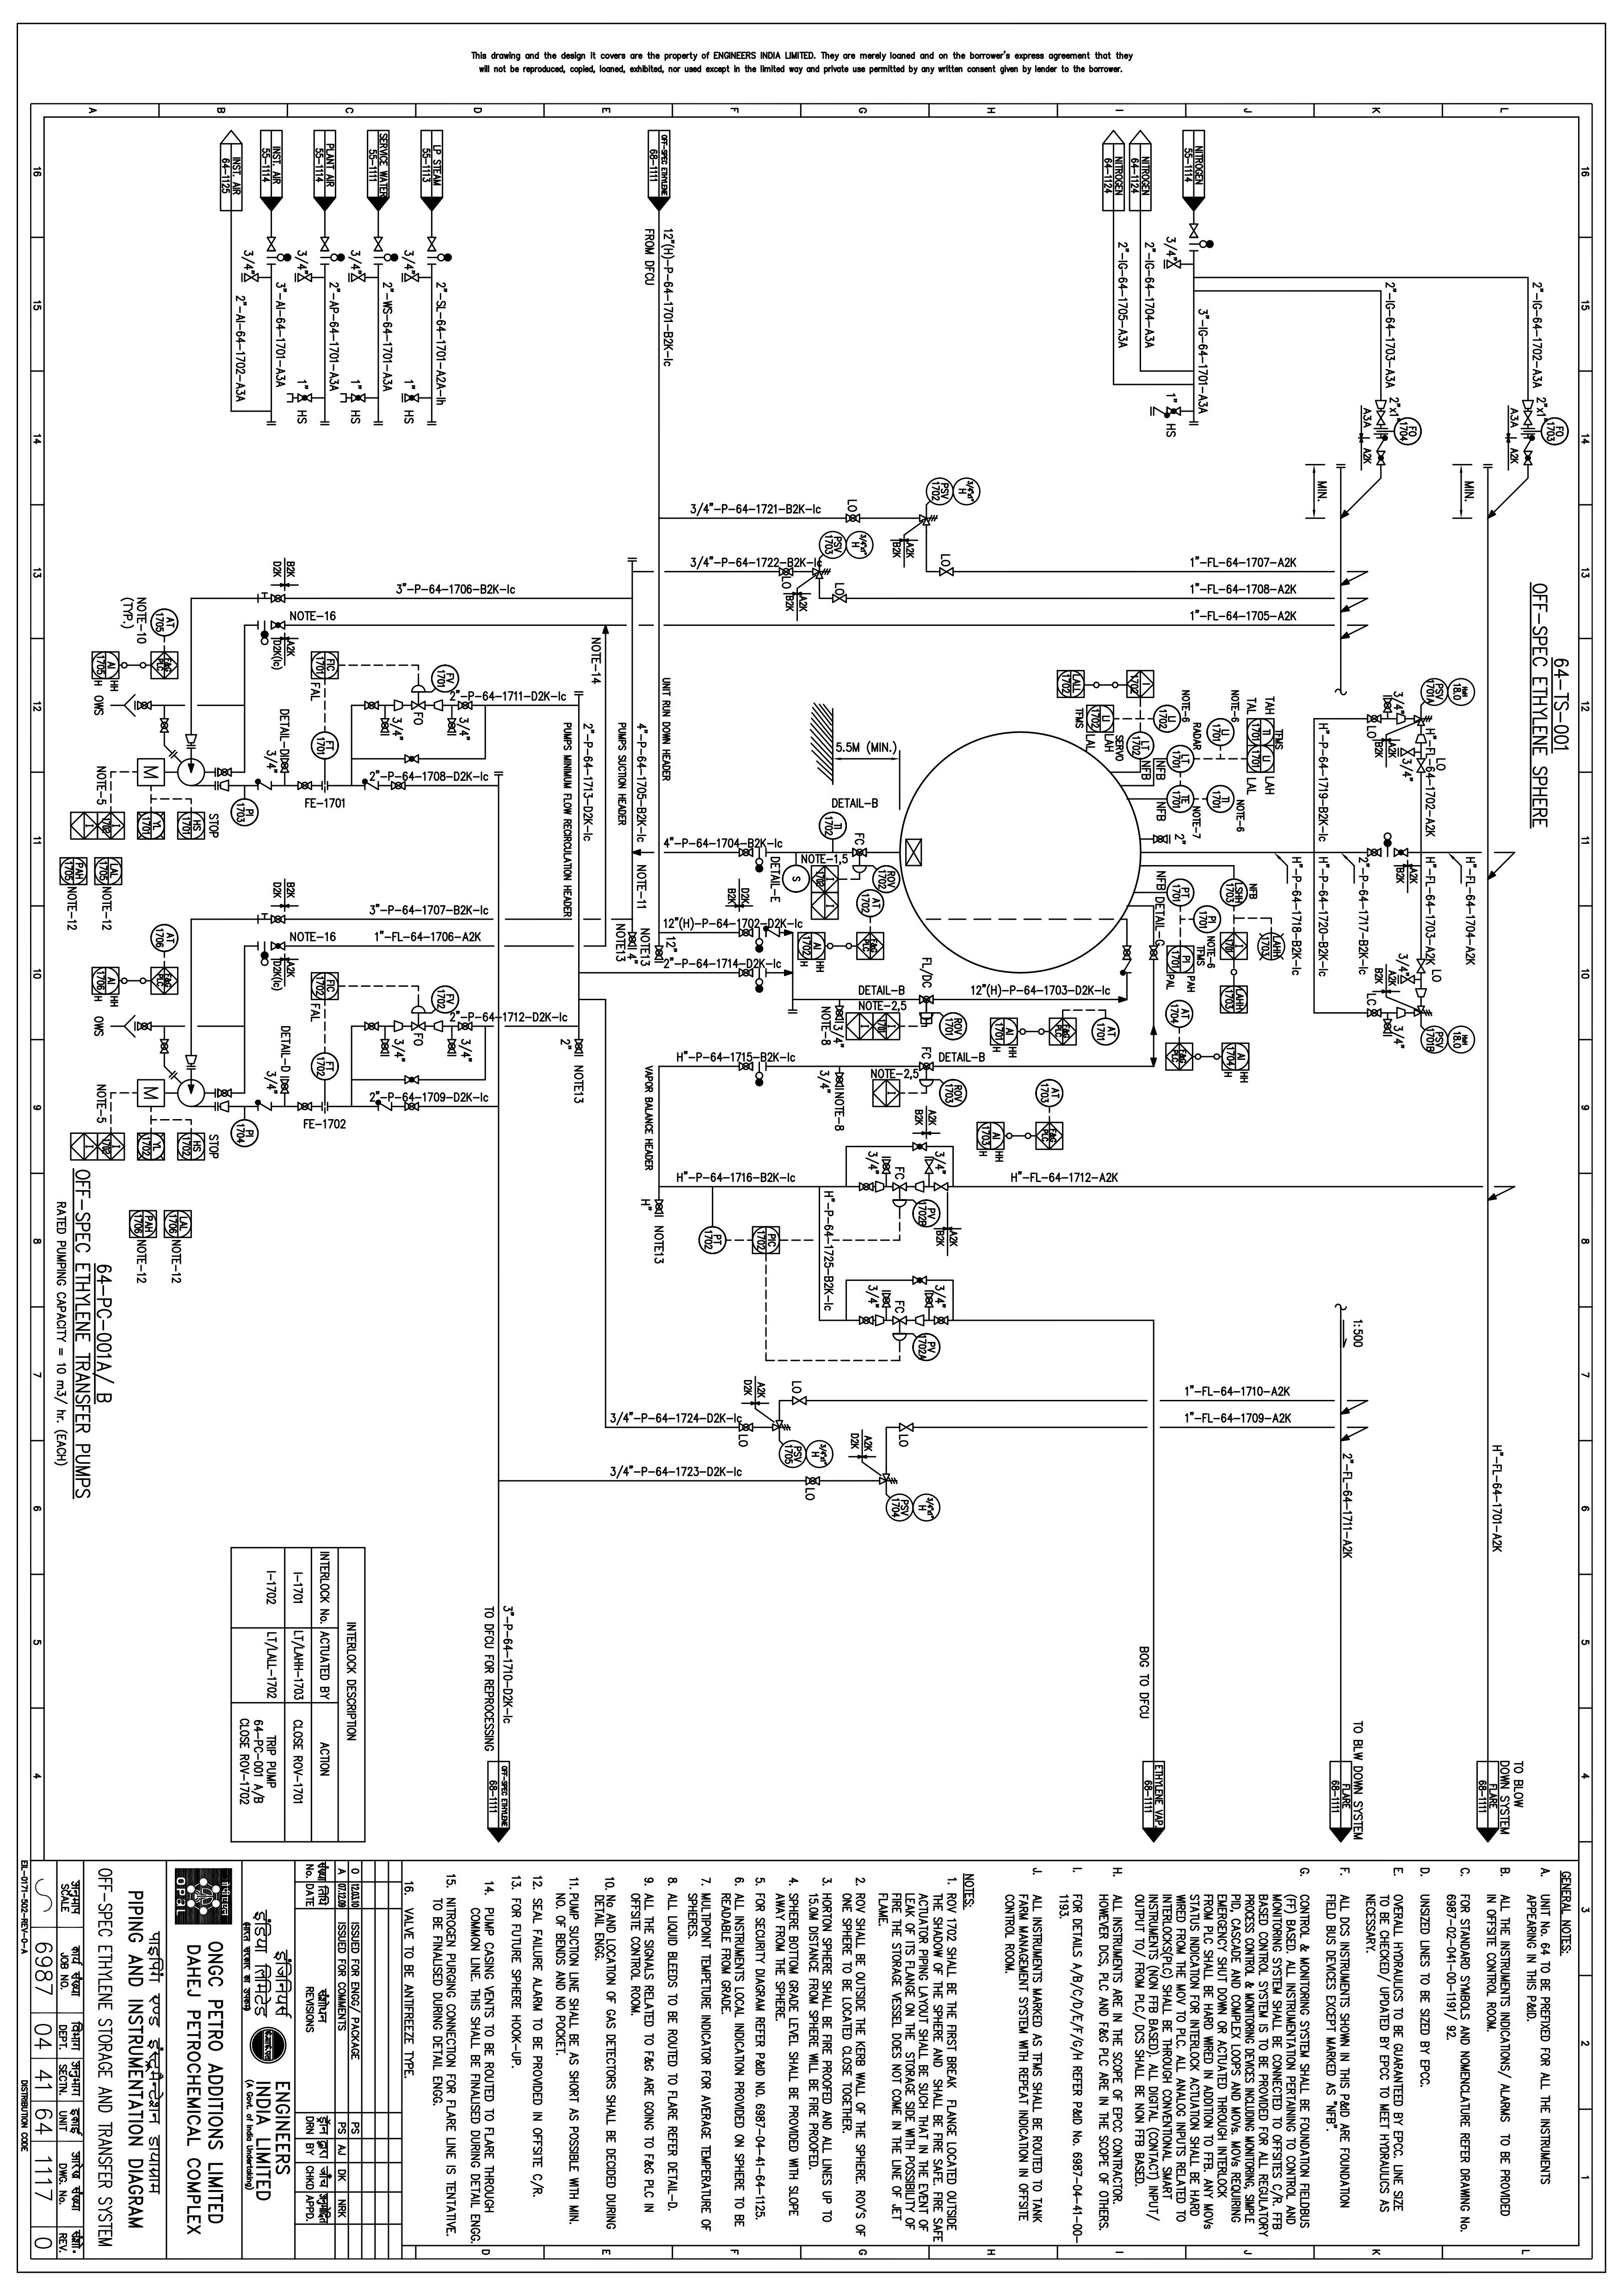ball valve: (1117, 940, 1142, 982), (285, 385, 320, 413), (237, 264, 270, 290), (850, 1173, 887, 1195), (1375, 1014, 1395, 1052), (1375, 1012, 1393, 1052), (260, 223, 281, 256), (852, 1312, 885, 1333), (395, 385, 423, 409), (372, 711, 395, 741), (335, 390, 371, 409), (420, 230, 439, 265), (1145, 402, 1184, 420), (804, 562, 831, 587), (725, 1418, 761, 1435), (866, 1470, 901, 1488), (292, 271, 316, 293), (931, 1312, 956, 1335), (1161, 258, 1196, 274), (155, 1031, 176, 1058), (371, 1096, 397, 1117), (249, 775, 278, 794), (404, 1001, 437, 1017), (369, 228, 386, 258), (343, 271, 372, 288), (209, 1084, 239, 1101), (153, 715, 176, 738), (360, 775, 383, 798), (1412, 708, 1435, 731), (183, 726, 202, 752), (1410, 1001, 1437, 1021), (128, 1019, 160, 1035), (399, 1072, 430, 1087), (915, 513, 943, 531), (179, 1049, 200, 1072), (274, 748, 293, 773), (762, 922, 787, 942), (906, 1270, 931, 1289), (1361, 710, 1388, 727), (885, 1177, 912, 1195), (785, 1393, 811, 1411), (397, 271, 425, 286), (450, 1019, 478, 1035), (799, 1474, 827, 1490), (915, 991, 940, 1008), (1412, 952, 1430, 977), (1186, 214, 1201, 241), (408, 680, 434, 696), (1374, 450, 1389, 476), (848, 863, 868, 884), (1363, 841, 1384, 861), (267, 617, 290, 634), (1372, 413, 1389, 436), (1516, 451, 1539, 469), (290, 778, 318, 792), (1393, 748, 1421, 762), (574, 1033, 588, 1061), (132, 699, 156, 715), (892, 1419, 917, 1435), (386, 1017, 406, 1036), (206, 780, 232, 794), (362, 697, 383, 715), (1379, 690, 1393, 717), (915, 1010, 936, 1028), (887, 1195, 908, 1212), (1365, 1005, 1382, 1026), (399, 754, 429, 766), (769, 567, 799, 580), (1151, 831, 1173, 847), (931, 1179, 954, 1195), (279, 1075, 295, 1098), (362, 1019, 385, 1035), (425, 1017, 448, 1033), (827, 592, 852, 606), (845, 847, 873, 859), (734, 966, 759, 980), (1410, 729, 1428, 748), (829, 1070, 847, 1089), (270, 938, 290, 956), (213, 766, 234, 782), (1412, 757, 1428, 778), (736, 847, 757, 863), (920, 1075, 936, 1096), (920, 1156, 936, 1177), (1389, 845, 1410, 861), (318, 230, 330, 256), (1145, 942, 1158, 968), (293, 1100, 320, 1112), (444, 1031, 457, 1058), (406, 699, 429, 713), (265, 912, 288, 926), (400, 1103, 423, 1117), (1391, 708, 1409, 726), (1391, 1007, 1409, 1024), (1521, 413, 1537, 432), (1412, 982, 1428, 1001), (910, 1312, 926, 1332), (734, 1065, 759, 1077), (444, 715, 458, 736), (878, 1156, 892, 1177), (769, 1418, 790, 1432), (408, 1024, 430, 1036), (390, 697, 408, 713), (831, 1005, 847, 1022), (457, 701, 478, 713), (936, 567, 957, 580), (627, 928, 638, 952), (910, 1182, 927, 1196), (213, 1101, 227, 1119), (915, 1063, 938, 1073), (838, 516, 871, 523), (432, 697, 446, 713), (1521, 399, 1537, 413), (736, 928, 757, 938), (1375, 393, 1388, 411), (908, 1142, 926, 1154), (892, 1316, 910, 1328), (276, 580, 292, 590), (1504, 432, 1514, 448), (1356, 434, 1370, 444)
